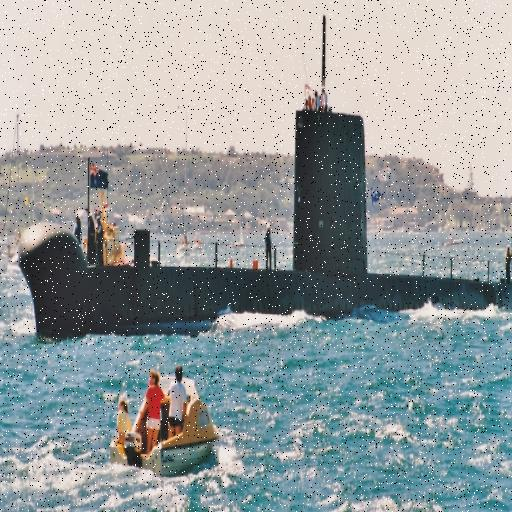submarine: (16, 113, 512, 343)
